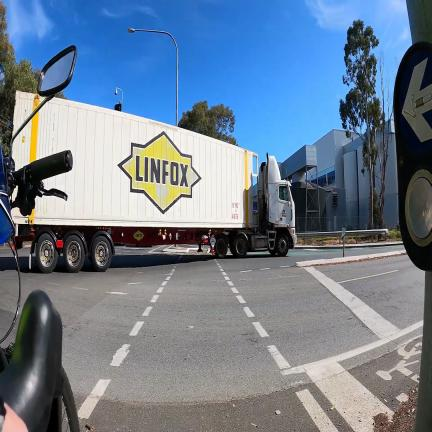Bike_Lane: (338, 328, 422, 411)
